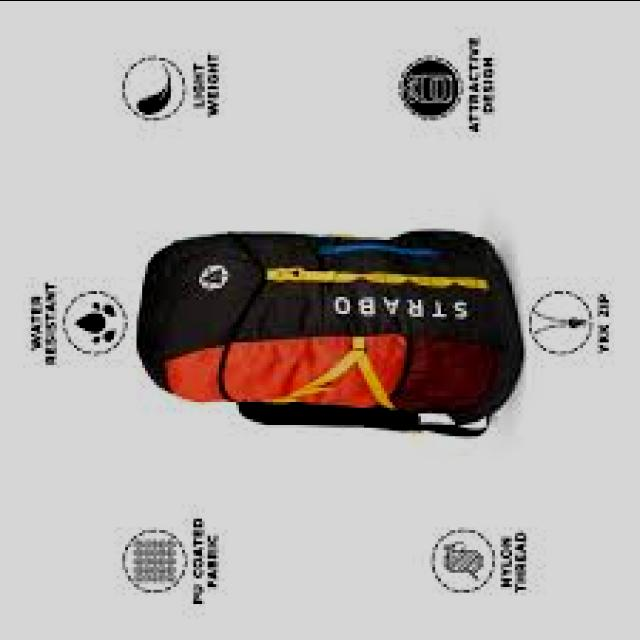backpack: (135, 231, 525, 439)
